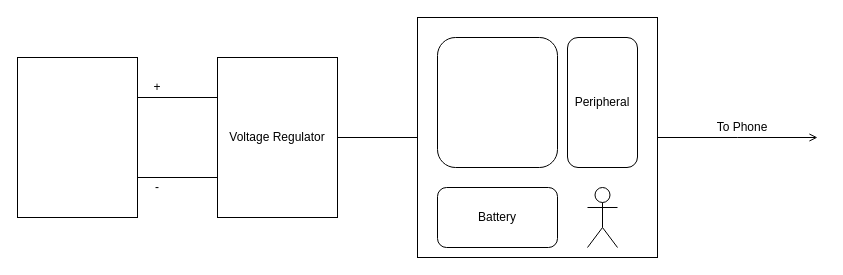
Image size: 843x275. Some labels were removed from this diagram. The shapes that lost their labels are listed below. From the top down, each one's centre as x and y in pixels, then its label:
the point at 497,102: Microcontroller
the point at 77,137: Solar Panel
